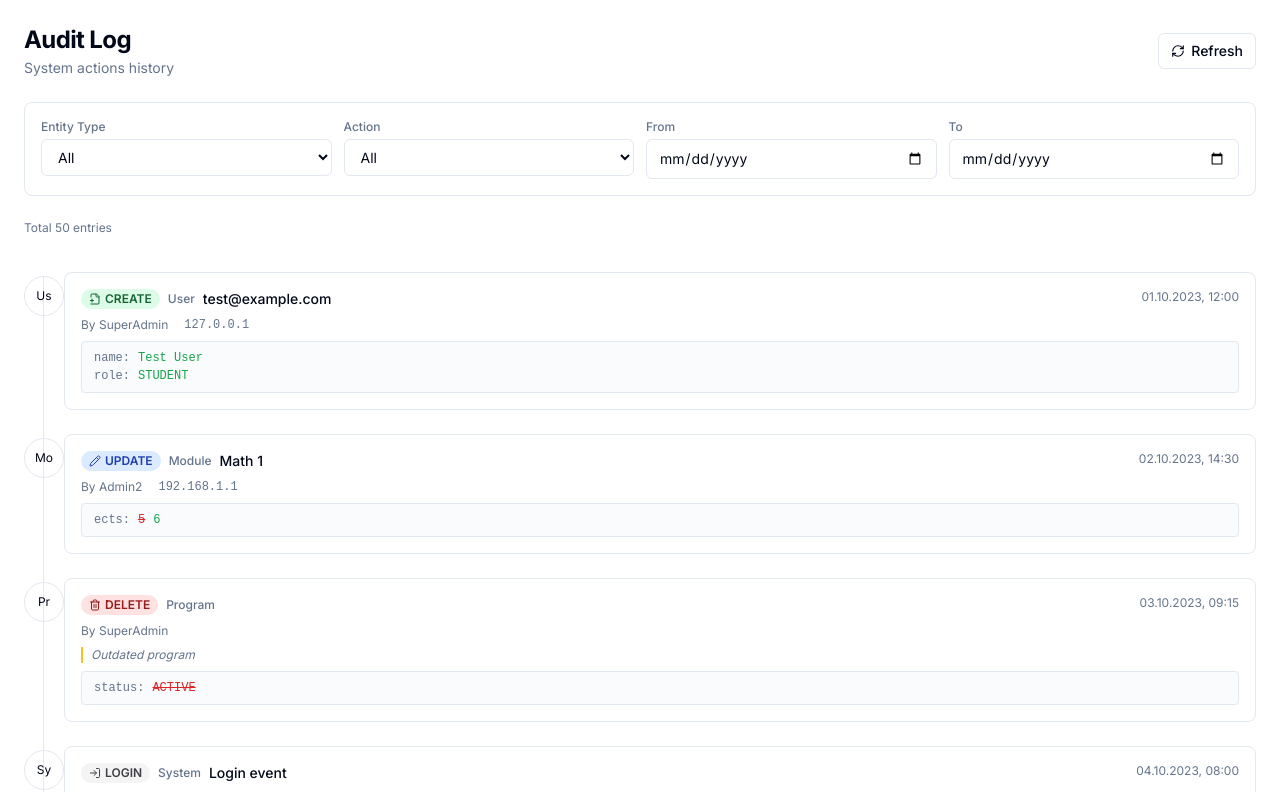
AdminAuditLogPage › handles filter changes and resets page
Select "User" in the dropdown below "Entity Type" at (186, 158), box [41,139,332,176]
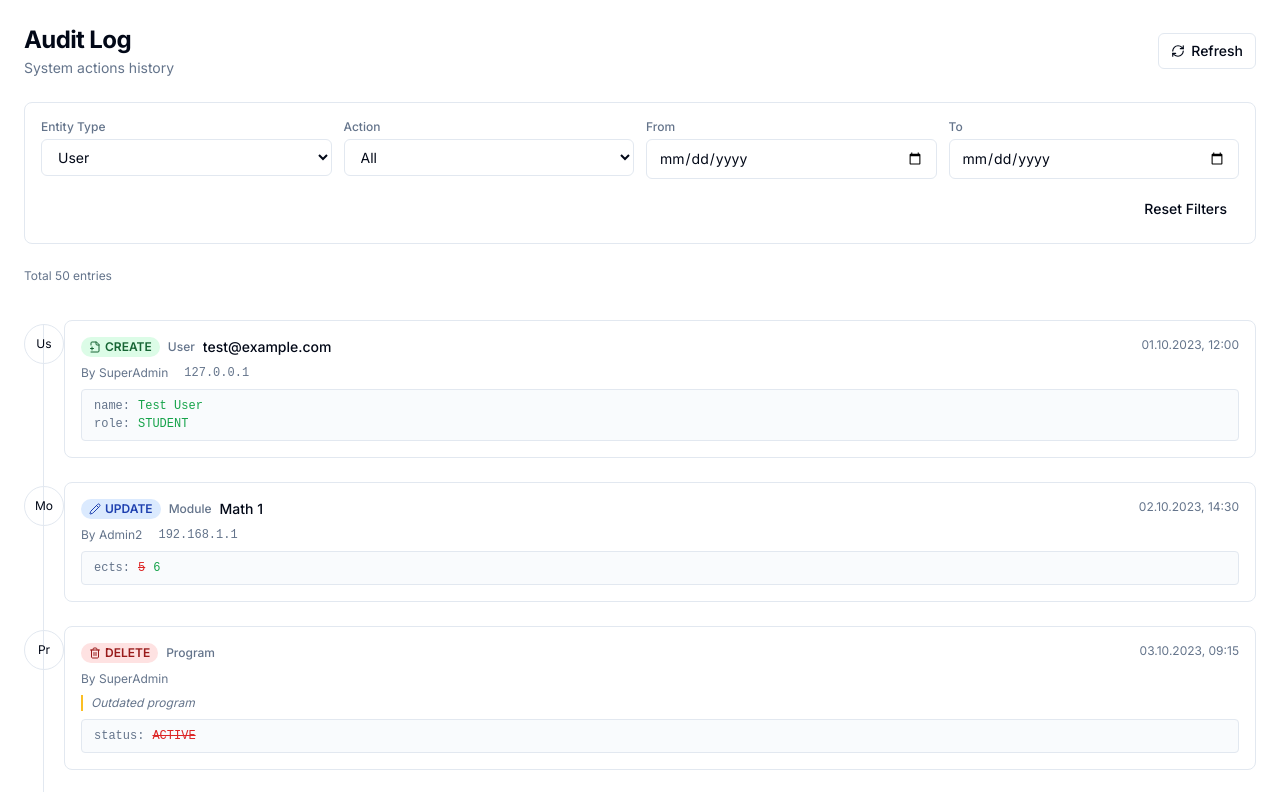
Select "CREATE" in the 2nd dropdown at (489, 158), box [344,139,634,176]
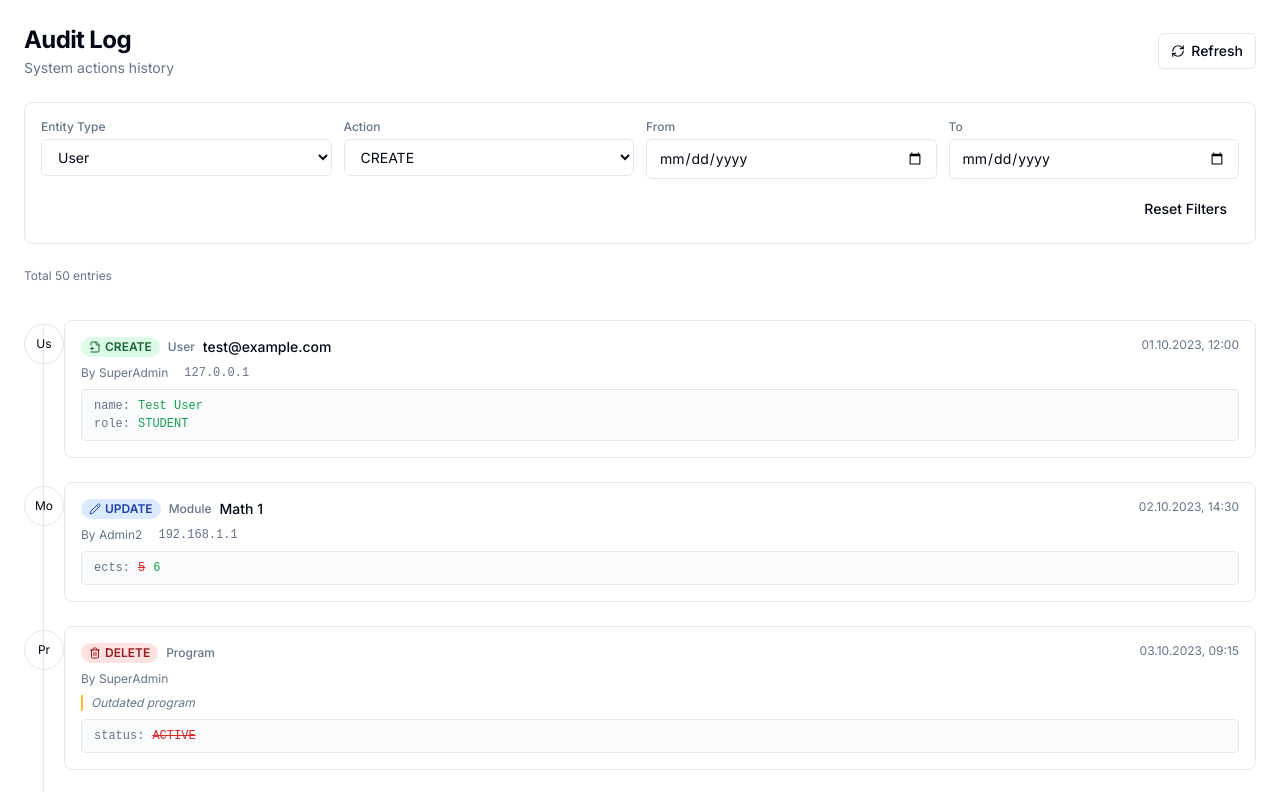
Expected: the button "Reset Filters" is shown, [1132,191,1239,227]
Type "2023-10-01" into the date field below "From" at (791, 159), box [646,139,936,179]
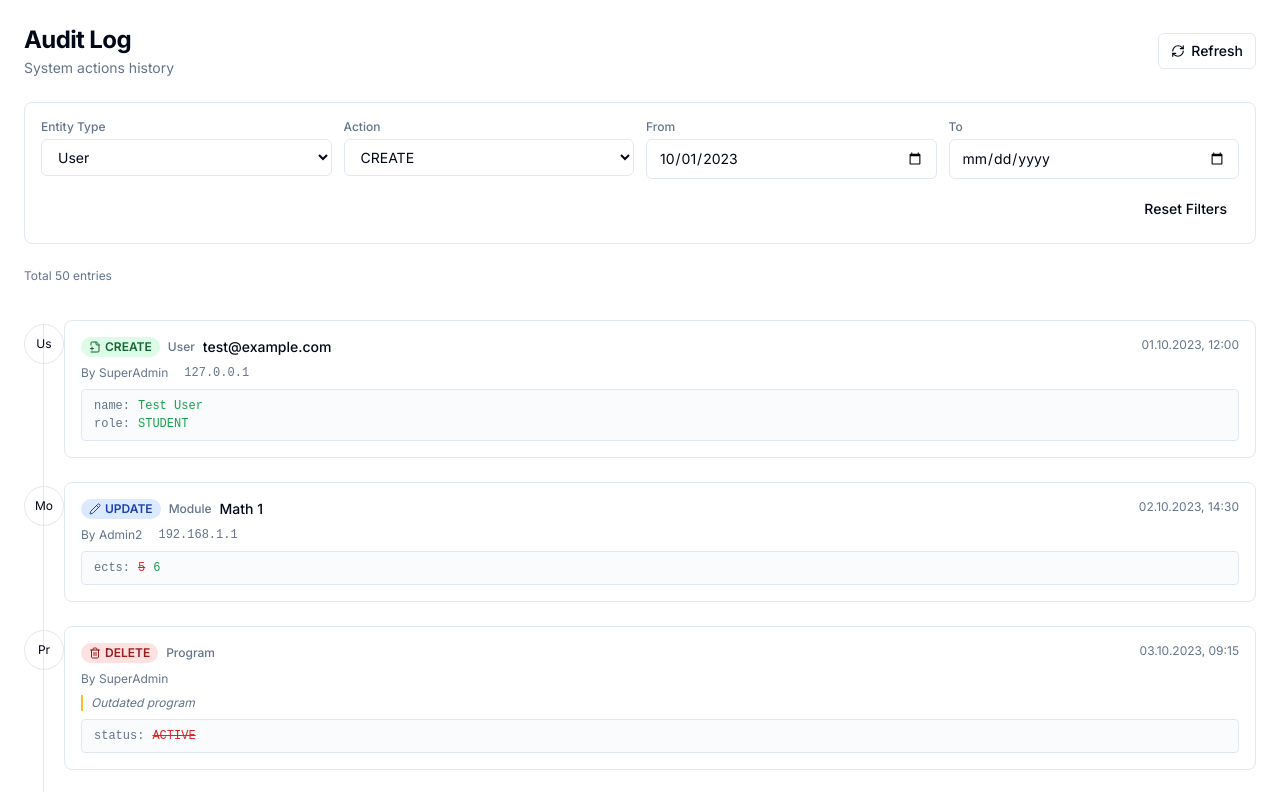
Type "2023-10-31" into the 2nd date field at (1094, 159), box [948,139,1239,179]
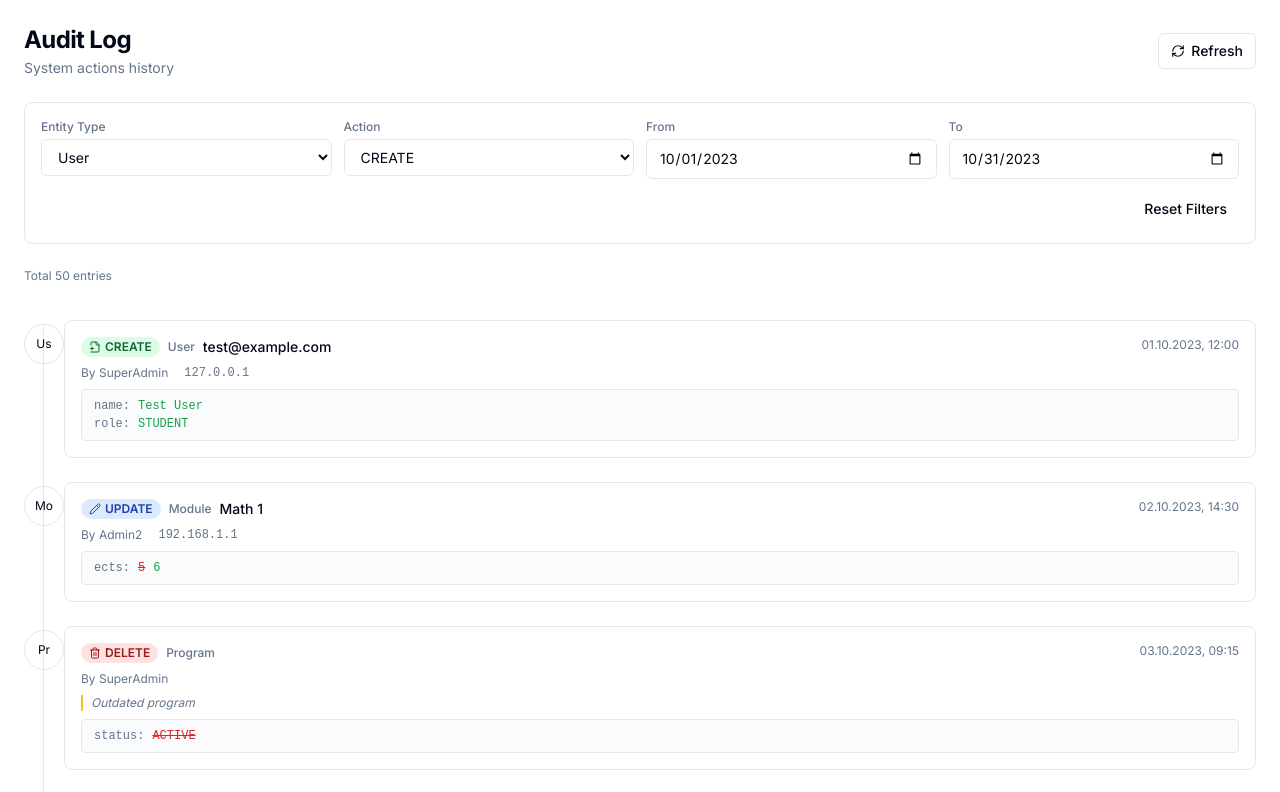
Click the button "Reset Filters" at (1186, 209), box [1132,191,1239,227]
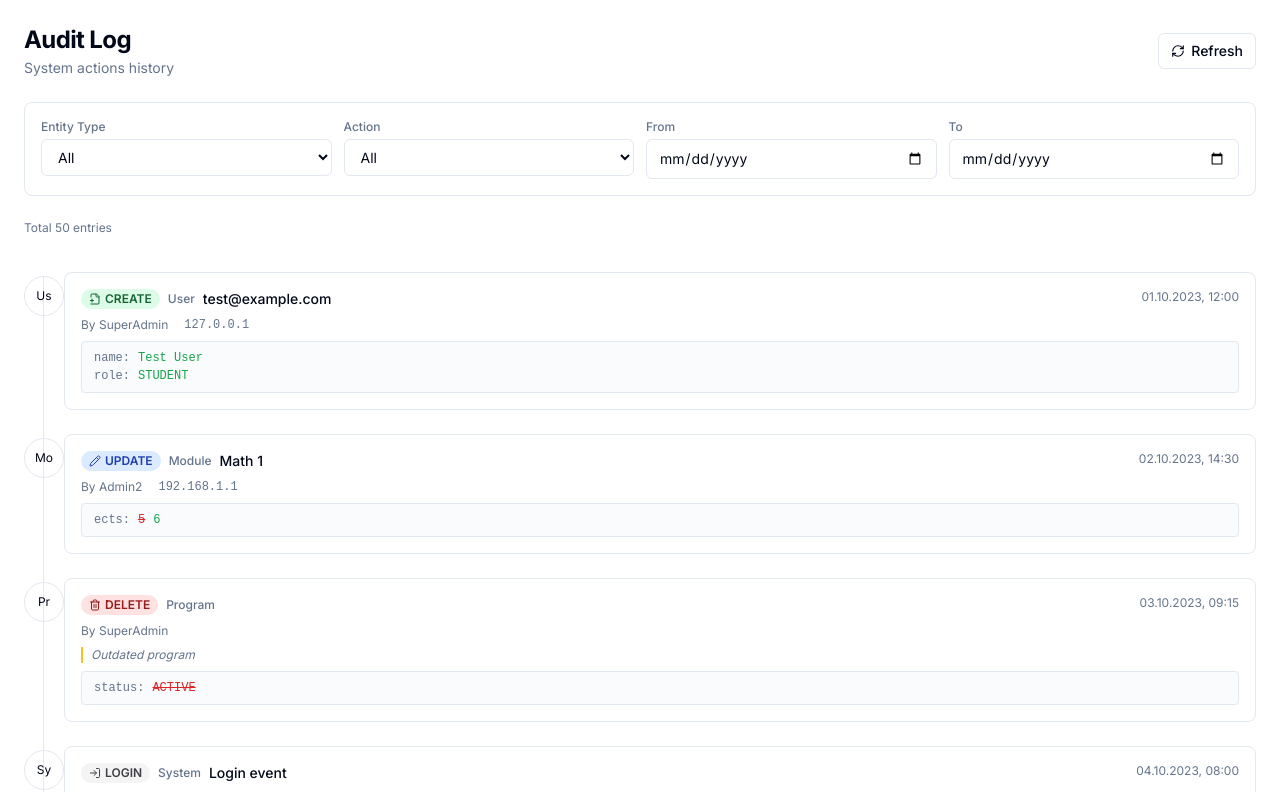
Expected: the button "Reset Filters" is gone
